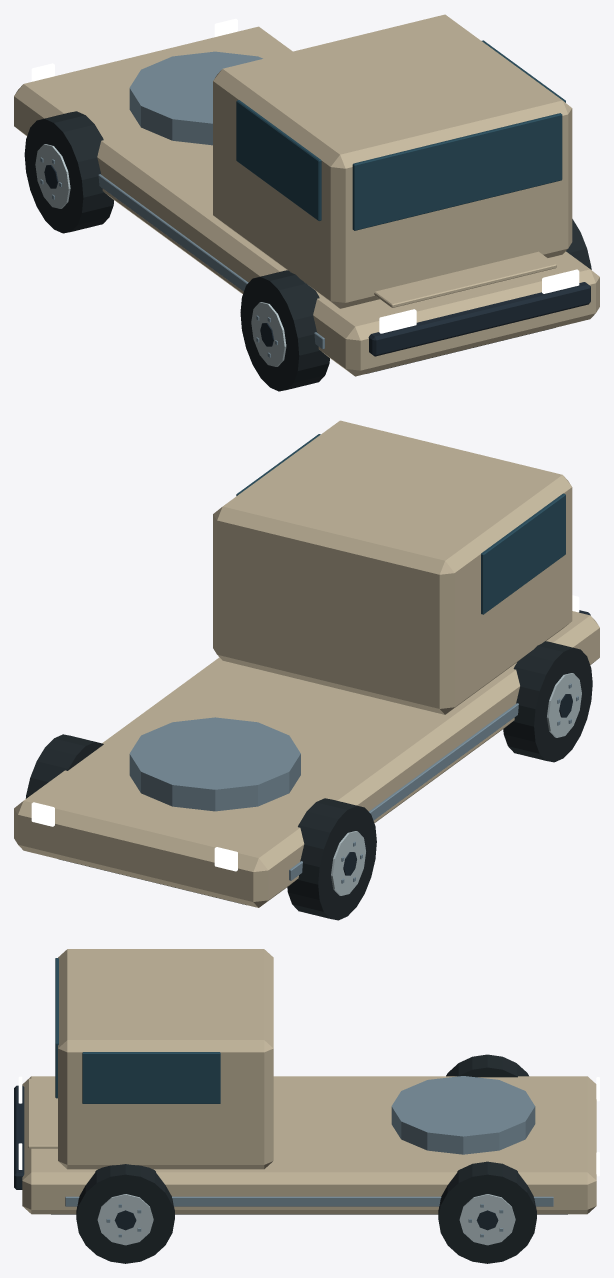
File: road-tractor-truck.lod0.glb
3 renders of one model, top to bottom at view 1: azimuth 30°, elevation 25°; view 2: azimuth 150°, elevation 25°; view 3: azimuth 270°, elevation 25°, orthographic. The views are drawn at different scales.
Parts seen in each view (by area): view 1: road-tractor-truck__body, road-tractor-truck__wheel_steer_1_l, road-tractor-truck__wheel_steer_0_l, road-tractor-truck__wheel_steer_0_r; view 2: road-tractor-truck__body, road-tractor-truck__wheel_steer_1_l, road-tractor-truck__wheel_steer_0_l, road-tractor-truck__wheel_steer_1_r; view 3: road-tractor-truck__body, road-tractor-truck__wheel_steer_1_r, road-tractor-truck__wheel_steer_0_r, road-tractor-truck__wheel_steer_1_l.
Boxes of the visible parts, x1=… form: road-tractor-truck__body: x1=14, y1=14, x2=599, y2=376; road-tractor-truck__wheel_steer_1_l: x1=24, y1=111, x2=113, y2=233; road-tractor-truck__wheel_steer_0_l: x1=240, y1=270, x2=329, y2=391; road-tractor-truck__wheel_steer_0_r: x1=566, y1=219, x2=591, y2=269; road-tractor-truck__body: x1=14, y1=420, x2=599, y2=907; road-tractor-truck__wheel_steer_1_l: x1=287, y1=798, x2=376, y2=920; road-tractor-truck__wheel_steer_0_l: x1=503, y1=641, x2=592, y2=762; road-tractor-truck__wheel_steer_1_r: x1=25, y1=734, x2=103, y2=798; road-tractor-truck__body: x1=14, y1=949, x2=599, y2=1214; road-tractor-truck__wheel_steer_1_r: x1=438, y1=1161, x2=536, y2=1263; road-tractor-truck__wheel_steer_0_r: x1=76, y1=1164, x2=174, y2=1263; road-tractor-truck__wheel_steer_1_l: x1=446, y1=1054, x2=528, y2=1077.
Bounding box in the file's own units: 2.85 × 2.25 × 5.71.
